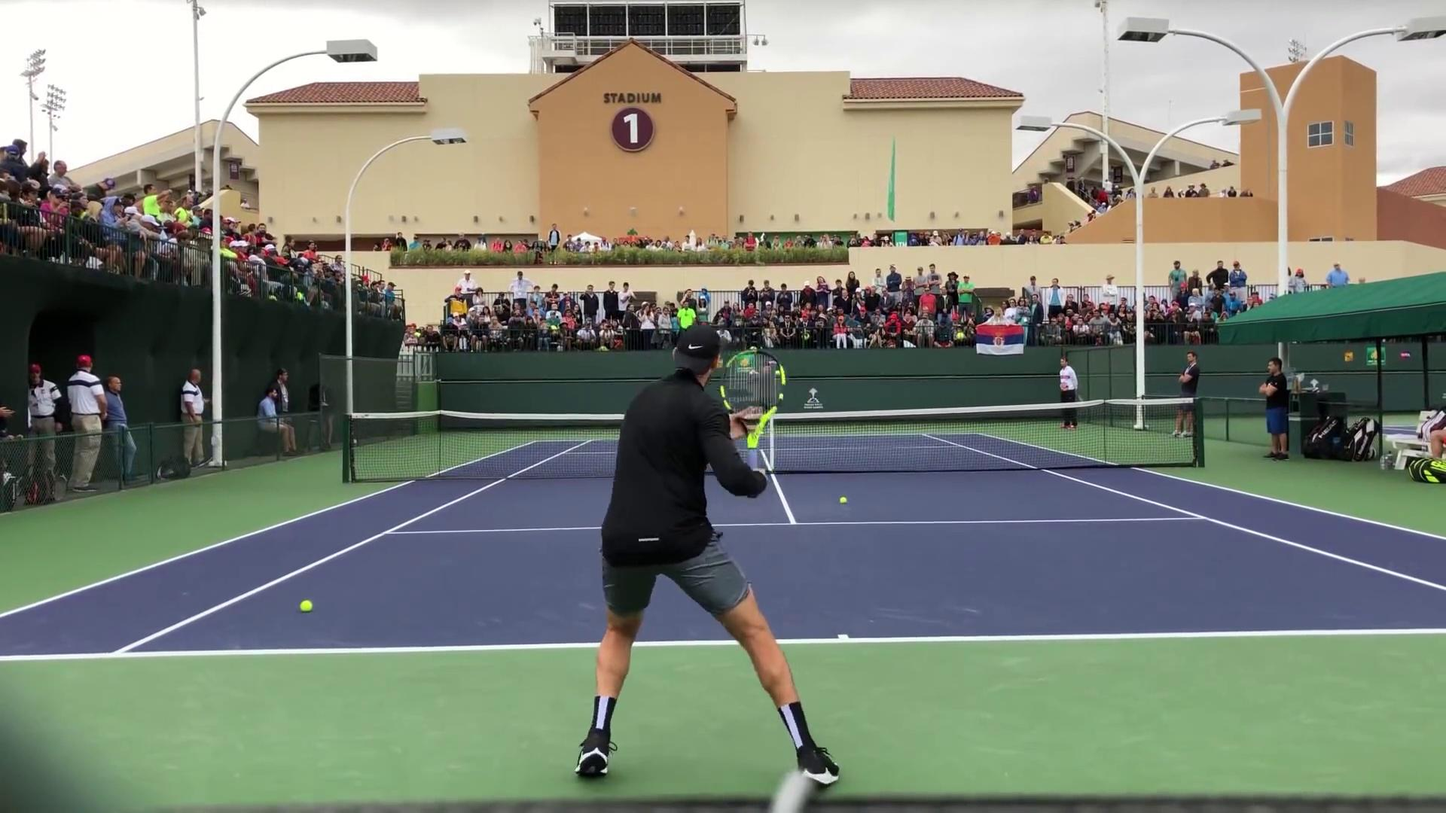ball: (299, 600, 314, 613), (839, 496, 848, 505), (765, 470, 768, 473)
